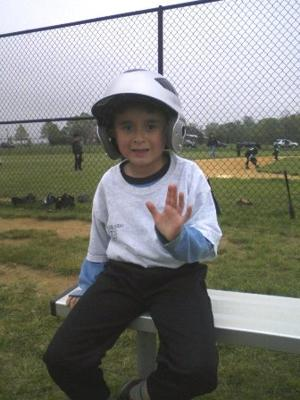person: (46, 69, 221, 400)
